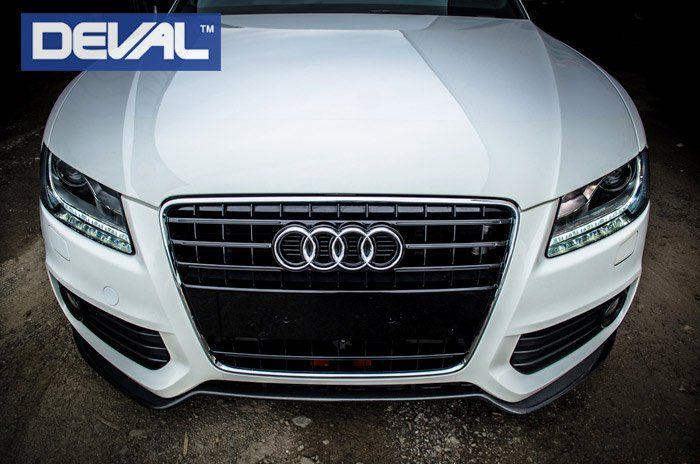audi: (263, 218, 406, 280)
